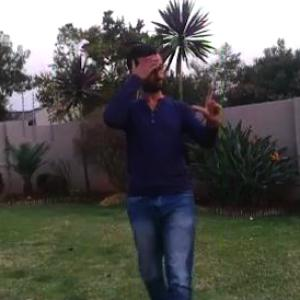land_hand: (185, 79, 228, 128)
